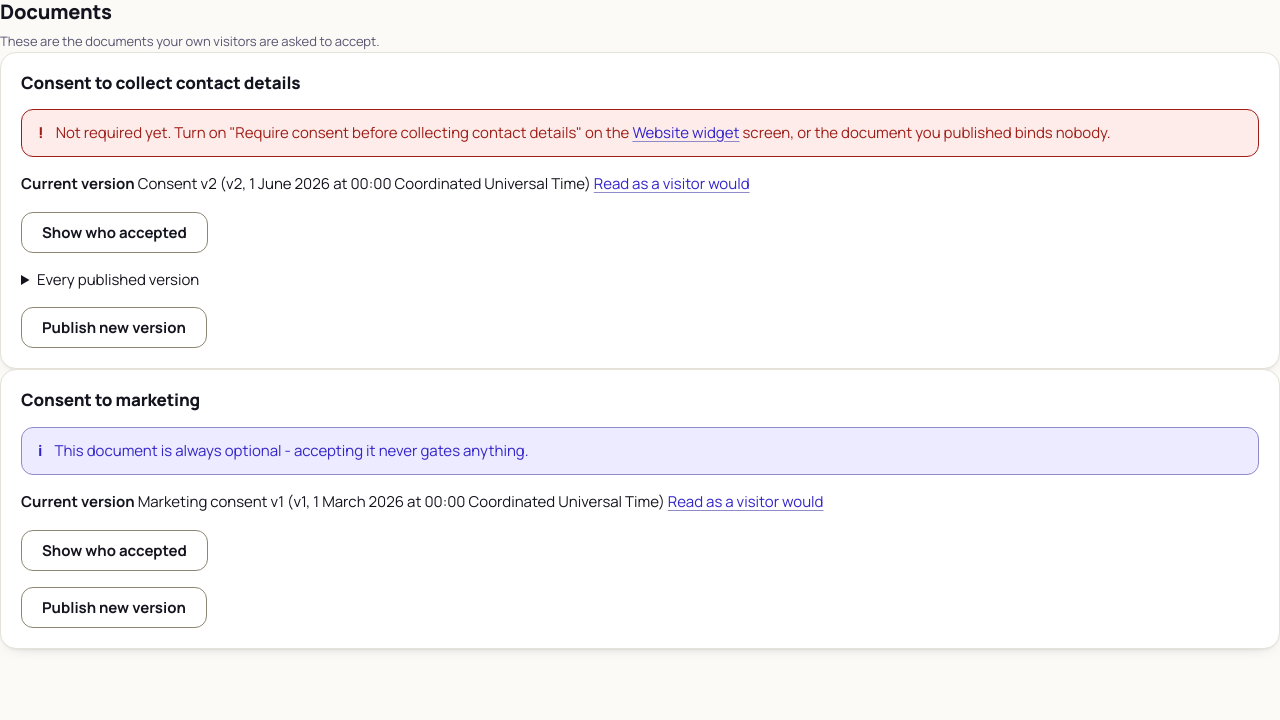
Test: who accepted › says nobody has accepted yet when the list is empty
Step 1. Click the button "Show who accepted" below "Consent v2" → (114, 232), box [21,212,208,253]
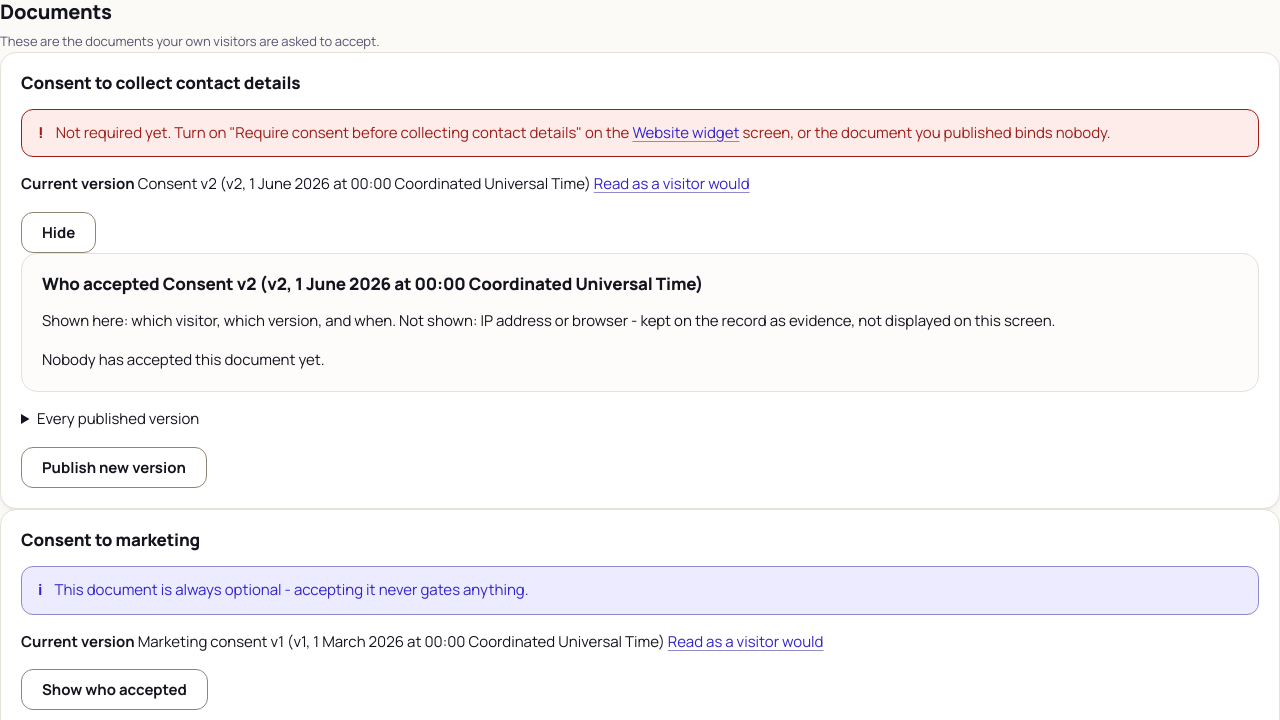
Check: the text "Nobody has accepted this document yet." is shown, box [42,349,325,370]
